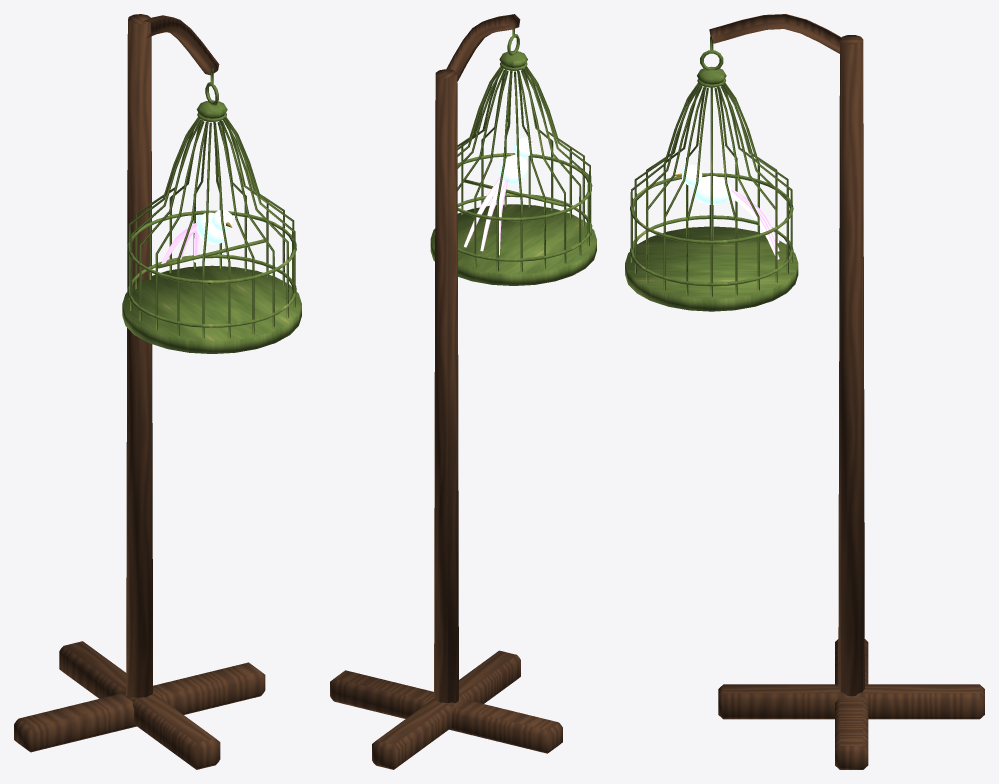
The model's file is spirit_bird_cage.glb.
The picture shows the model from 3 angles, left to right: view 1: azimuth 30°, elevation 25°; view 2: azimuth 150°, elevation 25°; view 3: azimuth 270°, elevation 25°; orthographic projection. The views are drawn at different scales.
Visible parts, largest first — view 1: CageStand, Cage, SpiritBird, SpiritBirdTail; view 2: CageStand, Cage, SpiritBirdTail, SpiritBird; view 3: CageStand, Cage, SpiritBird, SpiritBirdTail.
Boxes of the visible parts, left/top/right/bottom form: CageStand: left=14, top=14, right=265, bottom=769; Cage: left=122, top=68, right=301, bottom=353; SpiritBird: left=196, top=209, right=233, bottom=244; SpiritBirdTail: left=158, top=222, right=199, bottom=271; CageStand: left=330, top=14, right=562, bottom=769; Cage: left=430, top=29, right=596, bottom=285; SpiritBirdTail: left=464, top=176, right=508, bottom=255; SpiritBird: left=499, top=138, right=533, bottom=184; CageStand: left=709, top=14, right=984, bottom=769; Cage: left=625, top=36, right=798, bottom=311; SpiritBird: left=681, top=165, right=731, bottom=204; SpiritBirdTail: left=730, top=188, right=779, bottom=259.
Size of what is drawn, in the model's own units: 0.8 by 2.32 by 1.08.
Materials: 5 (3 with a texture image).
